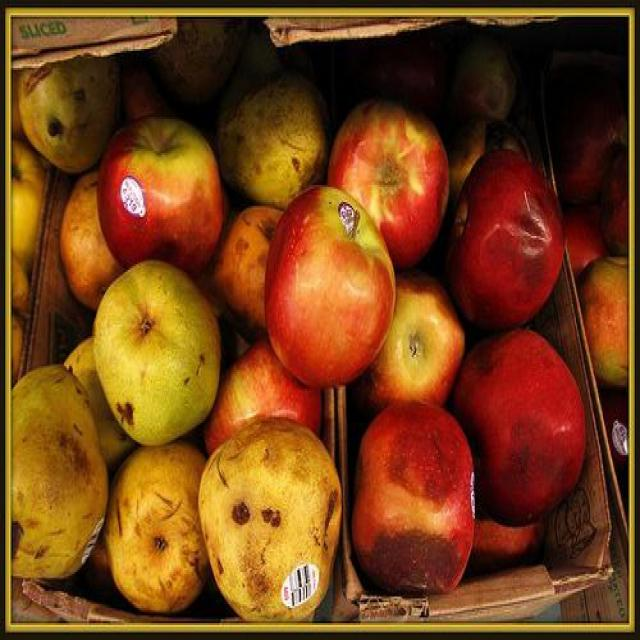fresh_apple: (265, 192, 395, 388)
rotten_apple: (353, 403, 474, 588)
